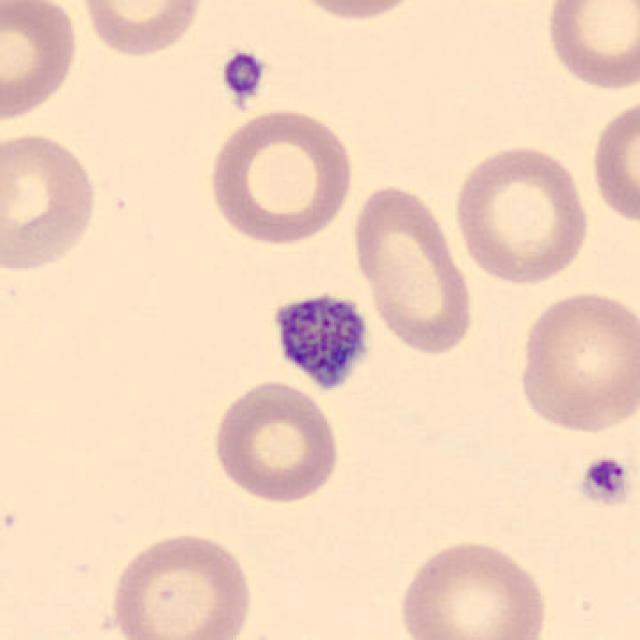Platelets: (260, 284, 375, 398), (576, 453, 631, 508), (217, 48, 268, 104)
RBC: (347, 178, 478, 360), (205, 104, 358, 249), (448, 140, 594, 288), (514, 286, 638, 437), (208, 377, 345, 506), (105, 527, 256, 640), (395, 534, 553, 640), (0, 127, 101, 275), (0, 0, 84, 127), (540, 0, 638, 93), (73, 0, 208, 60), (587, 91, 638, 228), (281, 0, 432, 25)
